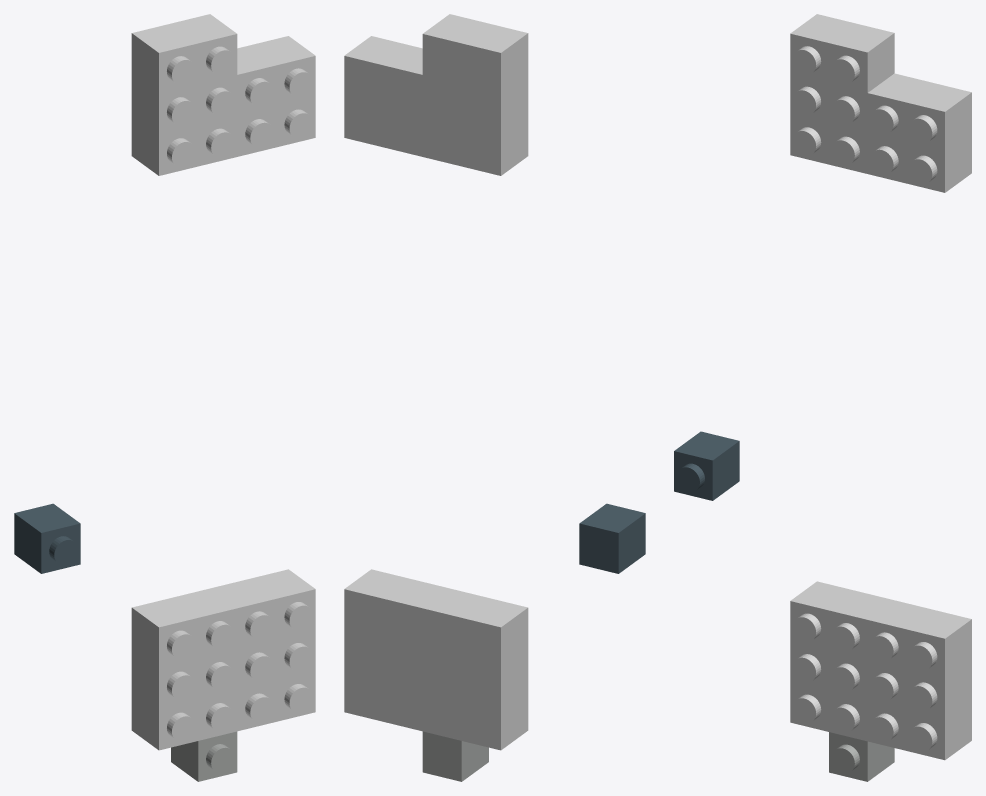
Rendered from current.glb.
The picture shows the model from 3 angles, left to right: view 1: azimuth 30°, elevation 25°; view 2: azimuth 150°, elevation 25°; view 3: azimuth 330°, elevation 25°; orthographic projection.
Parts seen in each view (by area): view 1: world; view 2: world; view 3: world.
Boxes of the visible parts, box(x1,y1,x2,y2) form: world: box(14, 14, 315, 781); world: box(344, 14, 645, 781); world: box(674, 14, 971, 781).
Size of the model in its own units: 56 by 144 by 11.4.
